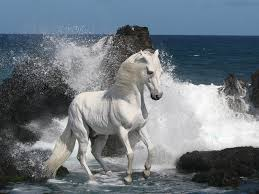horse: (46, 50, 163, 184)
